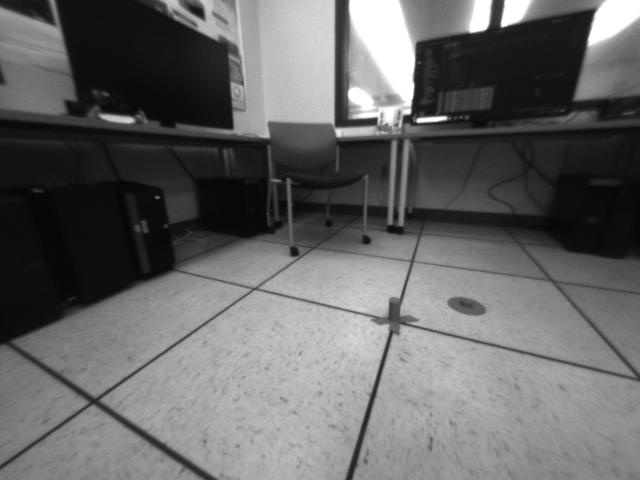X: (370, 296, 419, 336)
